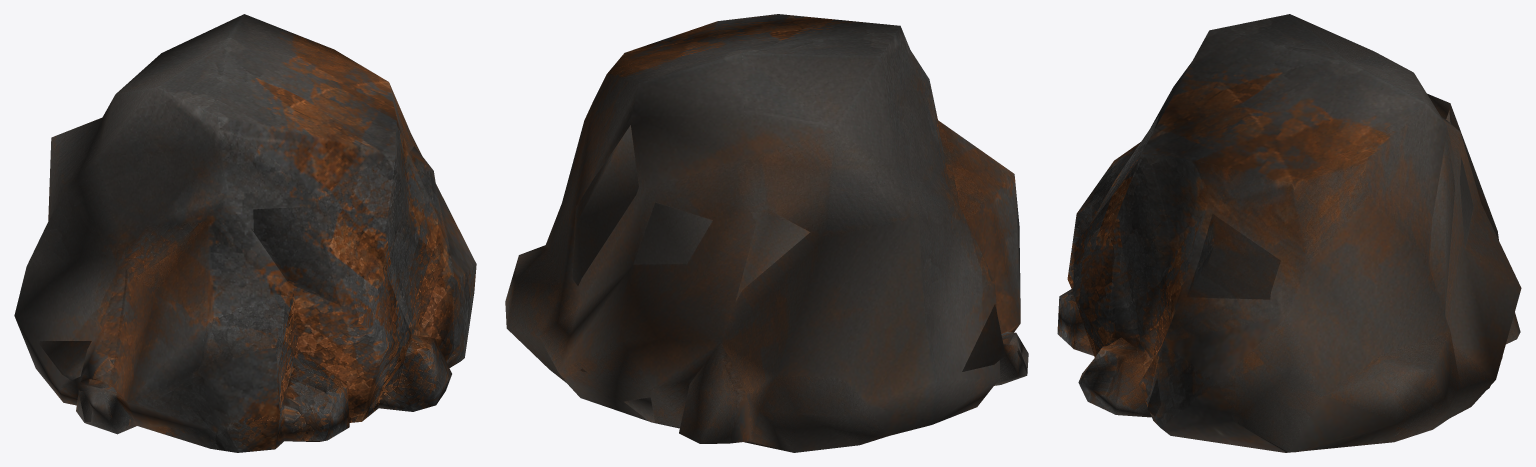
The model's file is Meshy_AI_Emberstone_Ore_0831110612_texture.fbx.
3 views of the same model, side by side, from view 1: azimuth 30°, elevation 25°; view 2: azimuth 150°, elevation 25°; view 3: azimuth 270°, elevation 25° (orthographic). The views are drawn at different scales.
Parts seen in each view (by area): view 1: mesh_node; view 2: mesh_node; view 3: mesh_node.
Part boxes in pixels (x1,y1,x2,y2): mesh_node: [14, 14, 476, 452]; mesh_node: [505, 14, 1028, 452]; mesh_node: [1057, 14, 1521, 452].
Bounding box in the file's own units: 100 × 72.46 × 99.41.
Materials: 1 (1 with a texture image).
